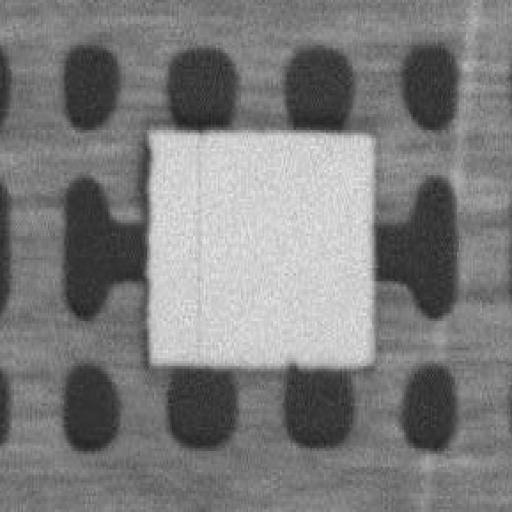DIE_CRACK: (190, 138, 202, 361)
